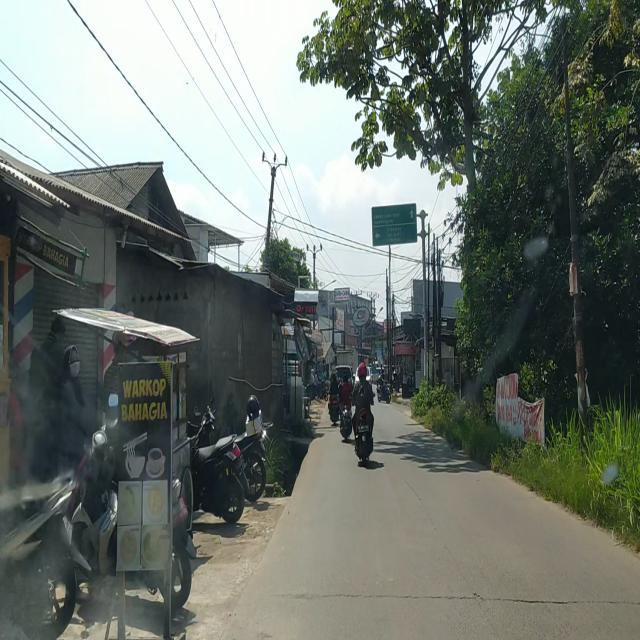Sewer Cover: (293, 580, 640, 612)
